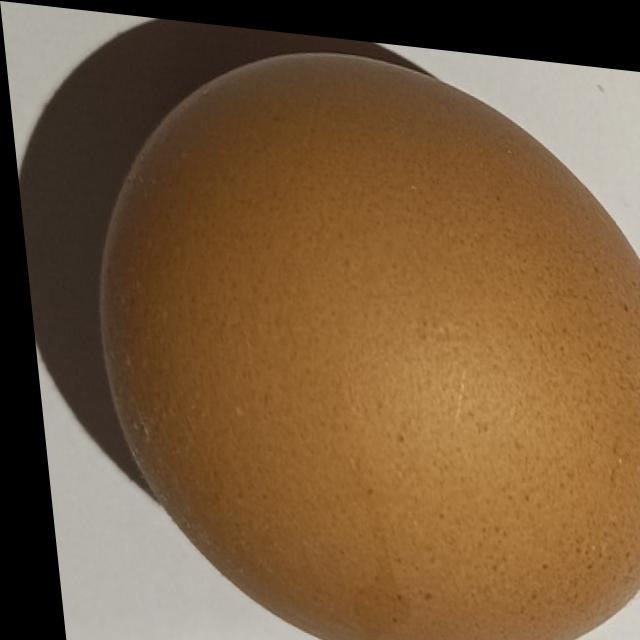unfresh: (73, 16, 640, 640)
